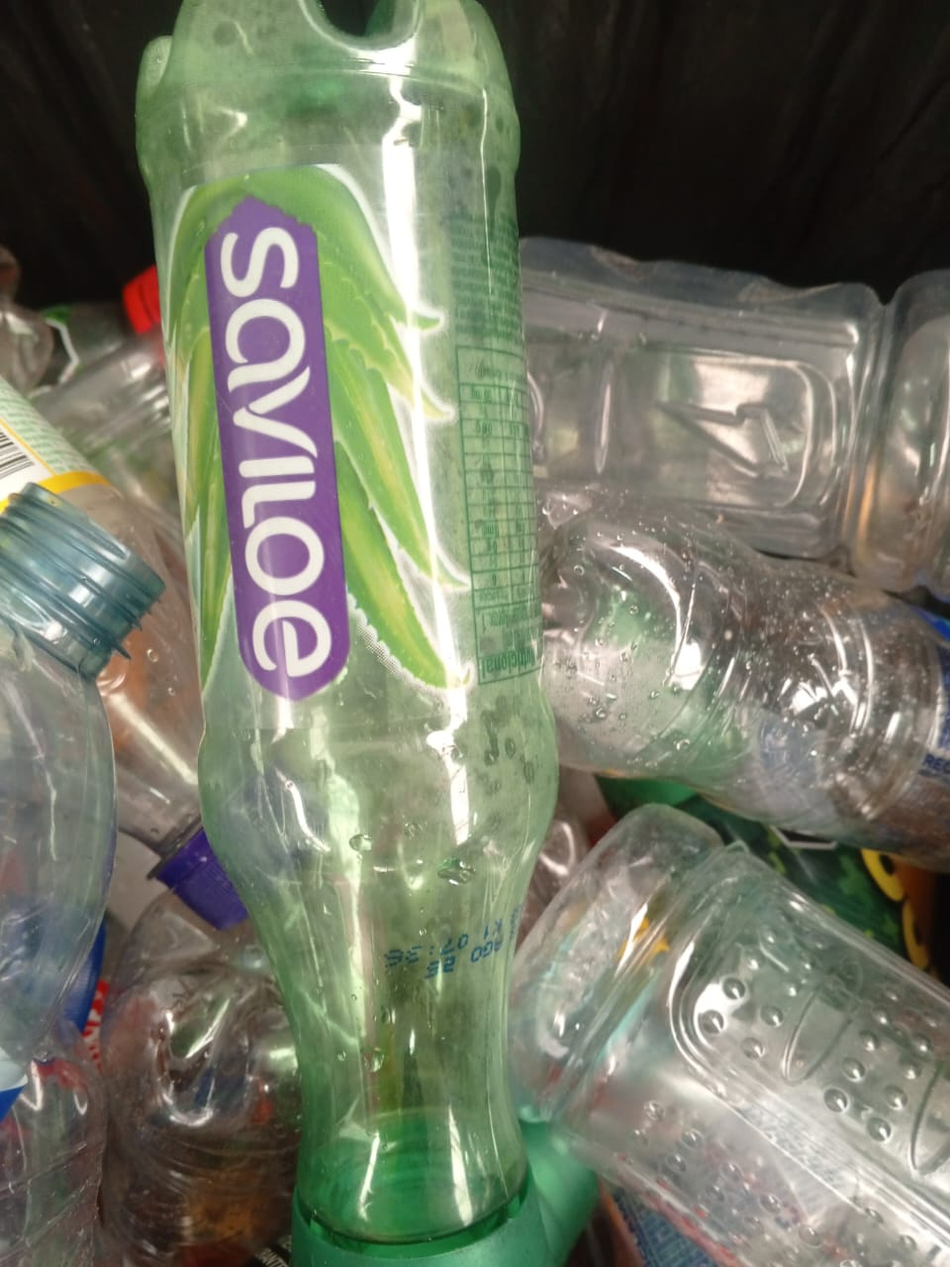Plastico: (136, 2, 553, 1267), (514, 804, 950, 1267), (512, 235, 950, 604), (551, 495, 950, 845), (0, 482, 157, 1124)
